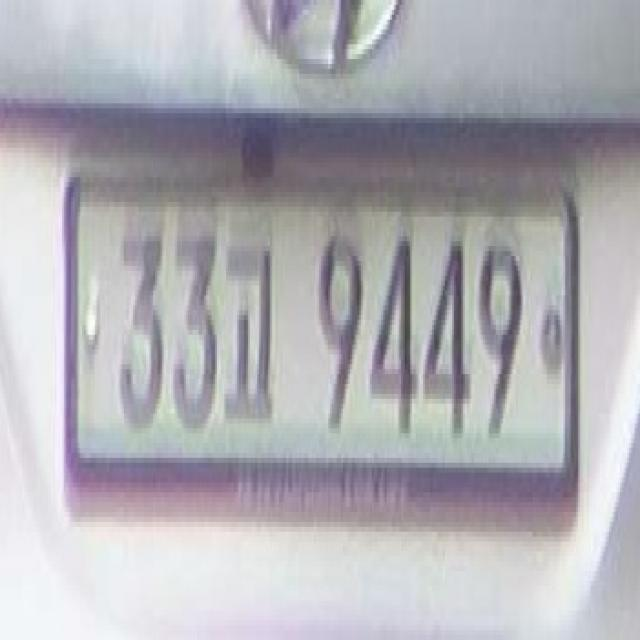3: (172, 226, 222, 434), (119, 226, 168, 434)
4: (365, 227, 419, 438), (420, 227, 470, 438)
9: (315, 226, 361, 434), (476, 236, 521, 438)
go: (218, 232, 272, 428)
license_plate: (70, 162, 572, 488)
